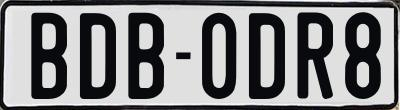0: (199, 12, 236, 102)
8: (342, 12, 378, 105)
B: (31, 10, 70, 102), (127, 11, 164, 100)
D: (78, 12, 118, 100), (247, 13, 287, 101)
R: (294, 10, 331, 100)
